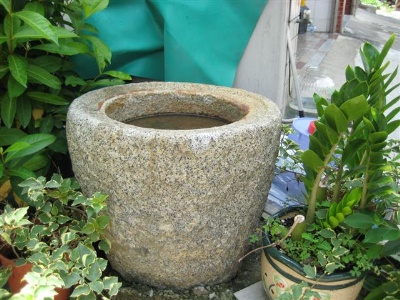bowl: (65, 82, 283, 294), (263, 204, 366, 300)
plastic_bag: (103, 1, 261, 81)
